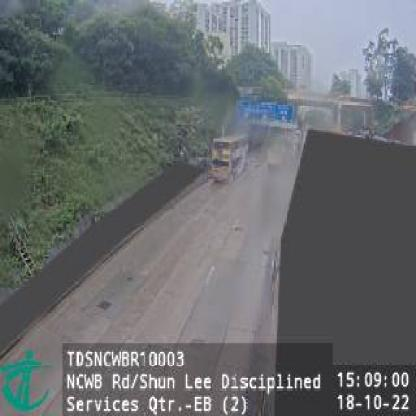Bus: (210, 134, 248, 183)
